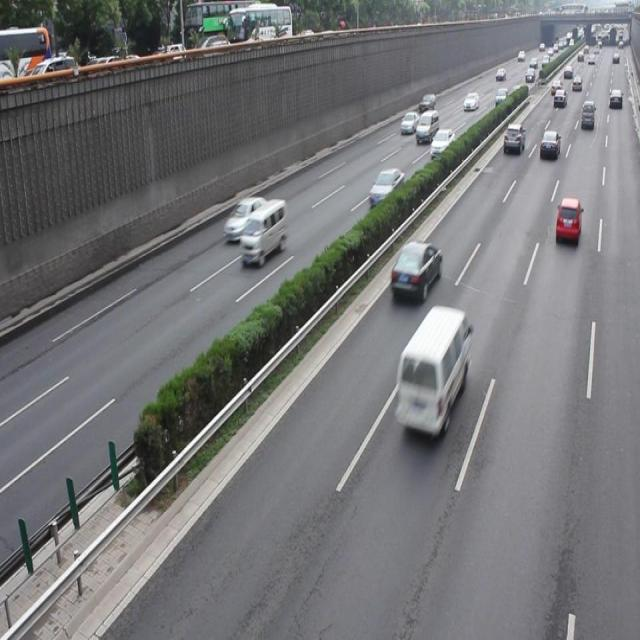car: (389, 239, 442, 298), (224, 195, 268, 241), (368, 166, 403, 210), (554, 196, 580, 246)
truck: (394, 306, 470, 435), (238, 197, 288, 264)
